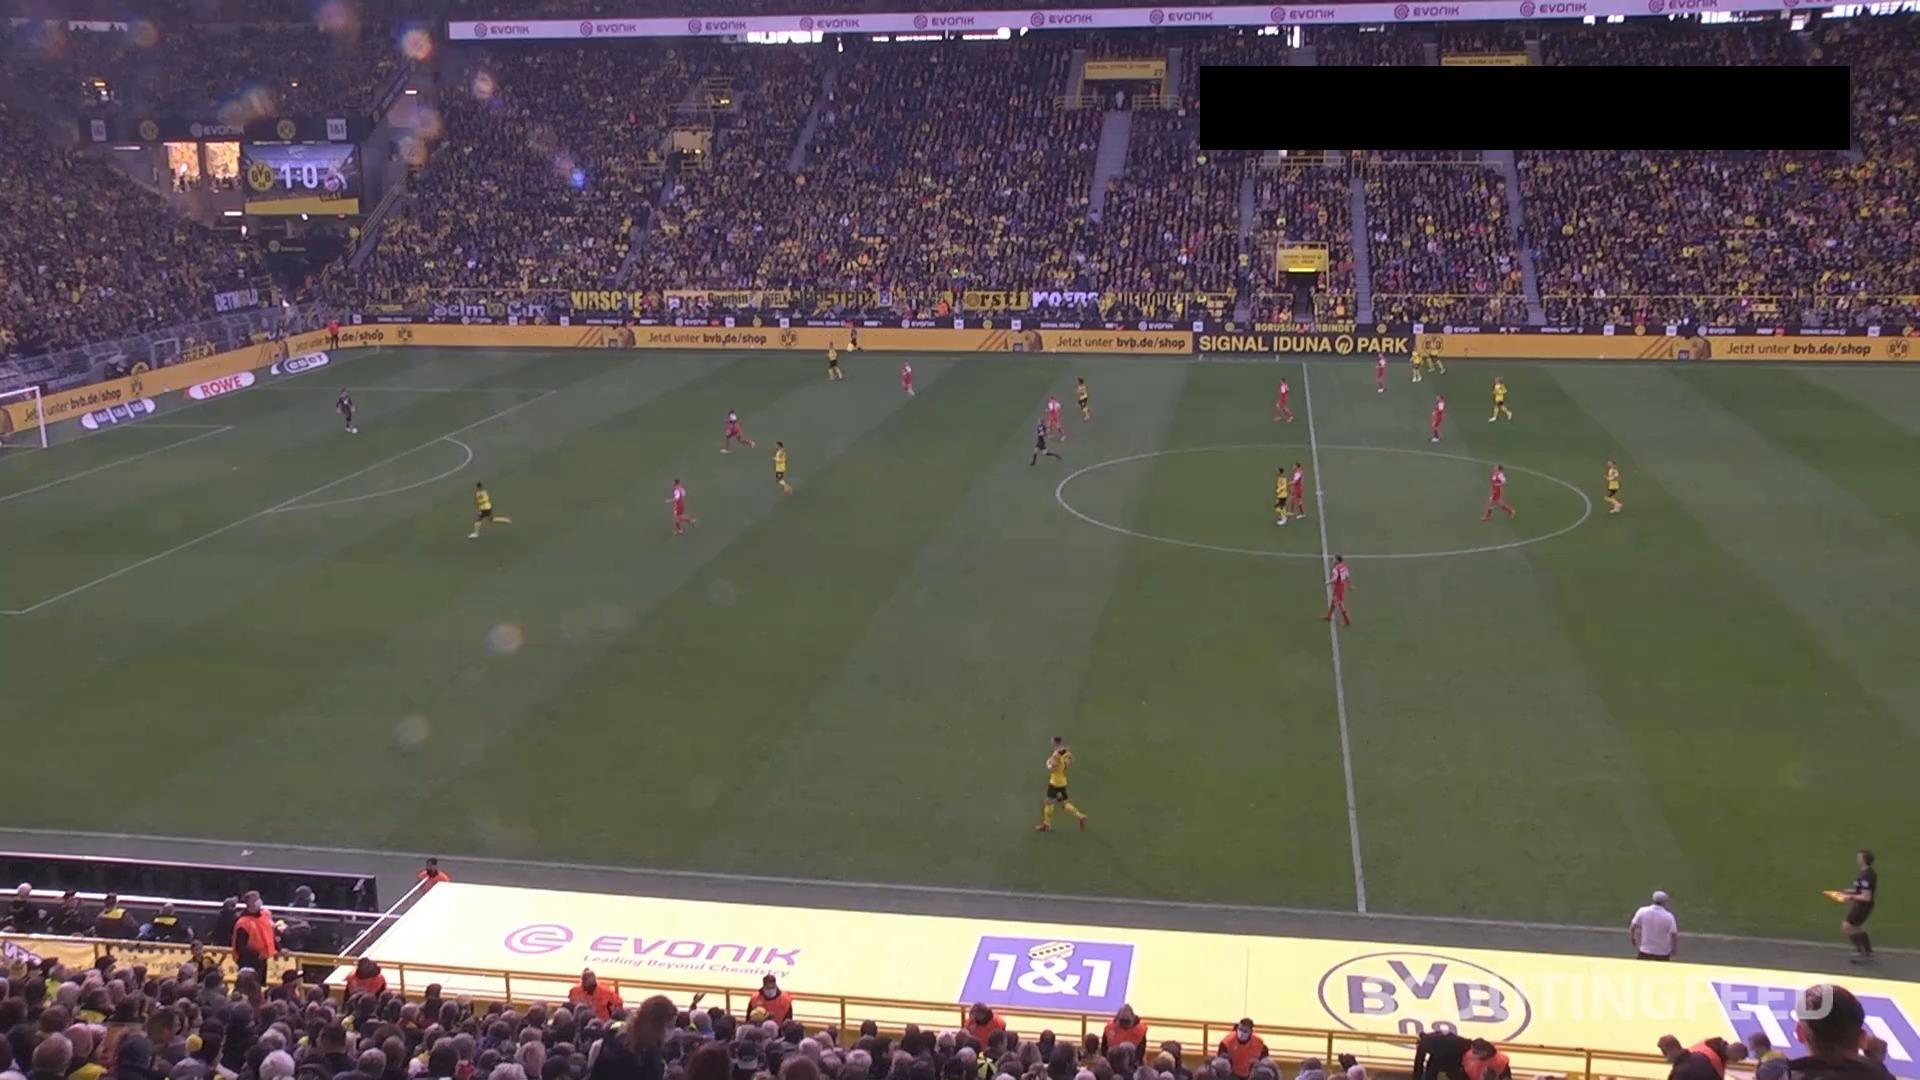coach: (1629, 889, 1678, 960)
fan: (1412, 1020, 1471, 1078)
player: (1033, 734, 1088, 832), (1319, 553, 1353, 626), (1480, 463, 1515, 521), (664, 477, 695, 535), (466, 480, 495, 539), (719, 408, 755, 454), (1487, 375, 1512, 422), (771, 440, 792, 495), (1272, 465, 1290, 526), (334, 386, 357, 433), (1043, 394, 1066, 441), (1603, 458, 1622, 513), (1288, 461, 1306, 518), (1272, 377, 1294, 423), (1428, 393, 1445, 442), (1424, 339, 1446, 375), (1074, 375, 1091, 421), (825, 339, 843, 380), (1374, 350, 1387, 393), (1408, 350, 1425, 382), (900, 360, 915, 396)
referee: (1828, 848, 1878, 961), (1028, 417, 1048, 465), (324, 318, 340, 349), (847, 323, 860, 351)
